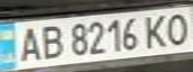1: (103, 16, 124, 53)
2: (84, 18, 109, 56)
6: (121, 15, 145, 52)
8: (66, 20, 90, 56)
A: (12, 24, 45, 63)
B: (36, 22, 66, 61)
K: (139, 11, 172, 48)
O: (160, 10, 193, 46)
